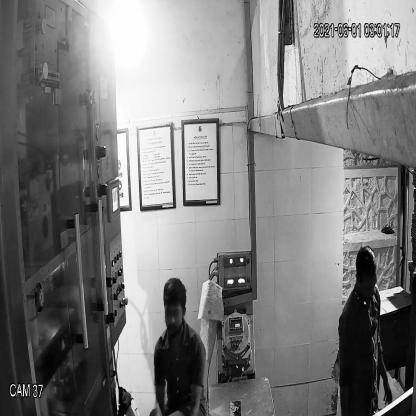no_goggles: (162, 304, 187, 325)
